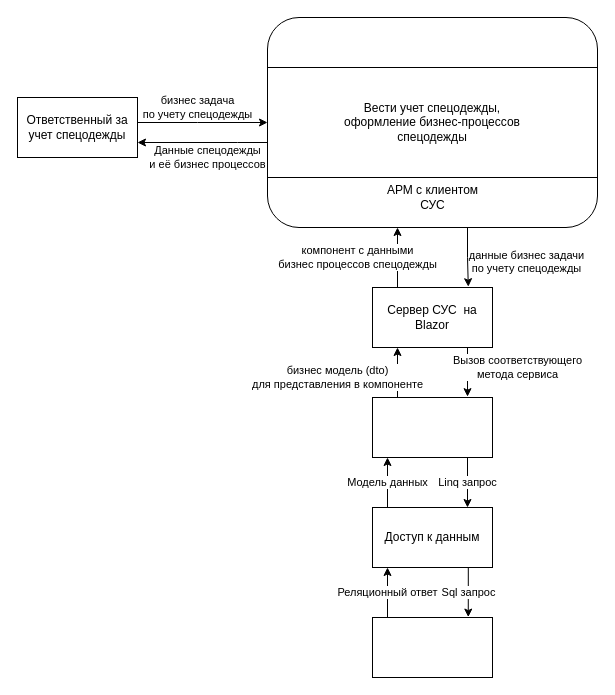
The diagram is 615 pixels wide and 695 high, and some of its shapes have lost their labels. Each missing label, with the box of its shape:
БД СУС: (372, 616, 492, 678)
Бизнес-логика: (372, 396, 492, 458)
